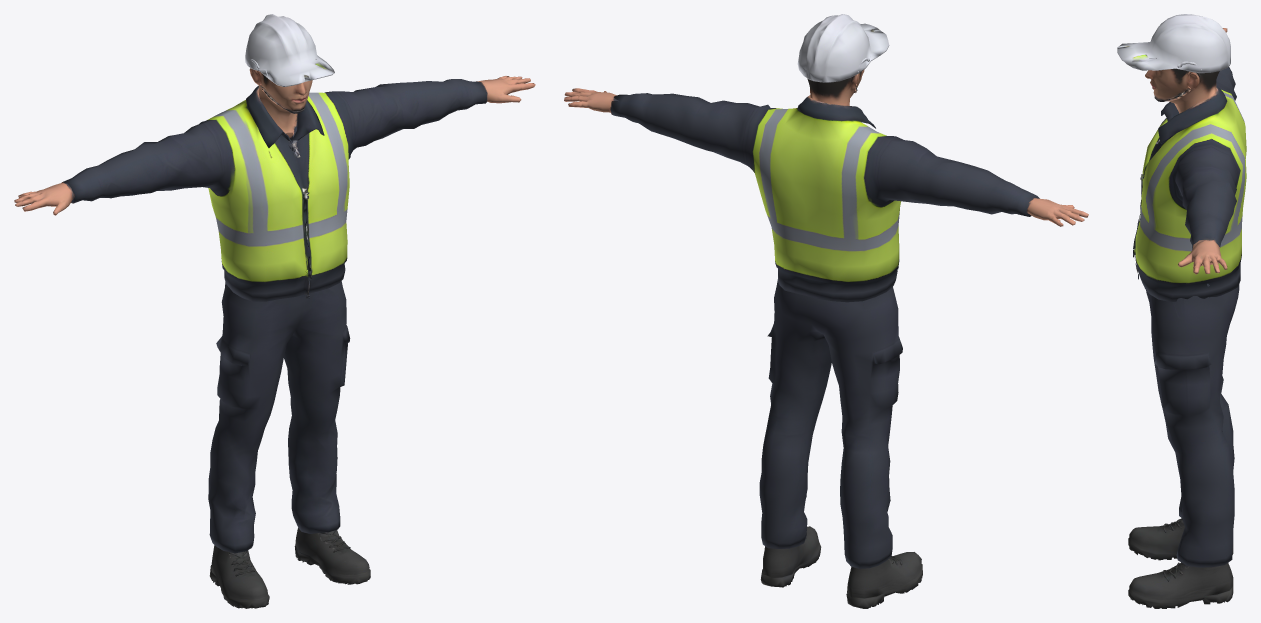
3 renders of one model, left to right at view 1: azimuth 30°, elevation 25°; view 2: azimuth 150°, elevation 25°; view 3: azimuth 270°, elevation 25°, orthographic.
Parts seen in each view (by area): view 1: tripo_node_3ad4058e-38fa-4c94-8d3f-a9bfd18b571d; view 2: tripo_node_3ad4058e-38fa-4c94-8d3f-a9bfd18b571d; view 3: tripo_node_3ad4058e-38fa-4c94-8d3f-a9bfd18b571d.
Part boxes in pixels (box(x1,y1,x2,y2)): tripo_node_3ad4058e-38fa-4c94-8d3f-a9bfd18b571d: box(14, 14, 535, 608); tripo_node_3ad4058e-38fa-4c94-8d3f-a9bfd18b571d: box(564, 14, 1088, 608); tripo_node_3ad4058e-38fa-4c94-8d3f-a9bfd18b571d: box(1117, 14, 1246, 608).
Size of the model in its own units: 0.9629 by 0.998 by 0.209.
1 material, 1 textured.
